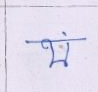anusvara: (63, 32, 66, 36)
